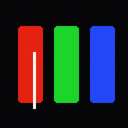4 line_v: (33, 52, 35, 108)
